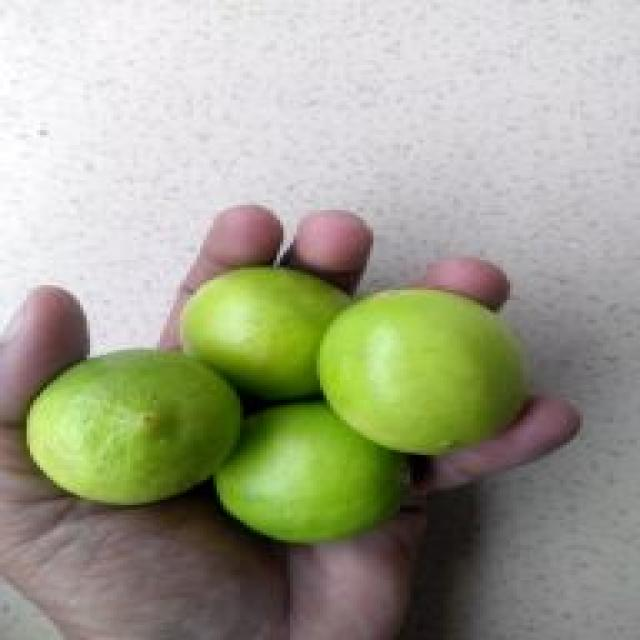lemon: (318, 289, 527, 454), (27, 350, 242, 505), (215, 402, 405, 542), (180, 266, 350, 399)
